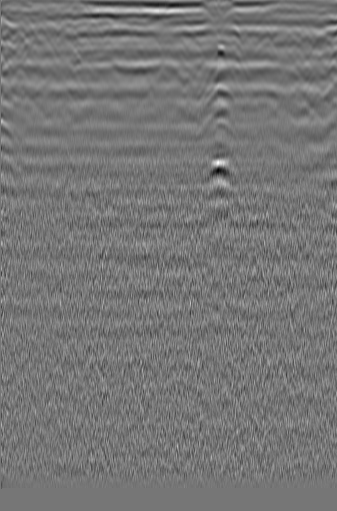가스: (195, 142, 244, 184)
상수: (18, 43, 46, 81)
오수: (291, 33, 316, 60)
우수: (151, 61, 187, 91)
